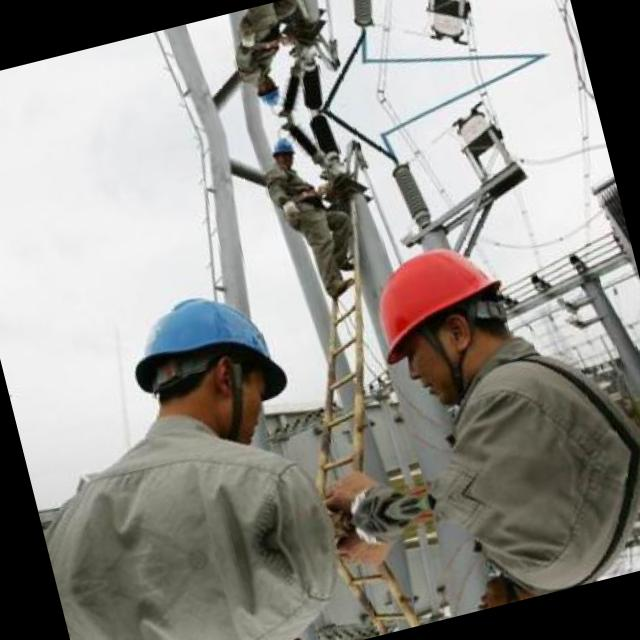helmet: (102, 260, 318, 464), (342, 218, 538, 416), (264, 132, 298, 174), (250, 72, 284, 114)
